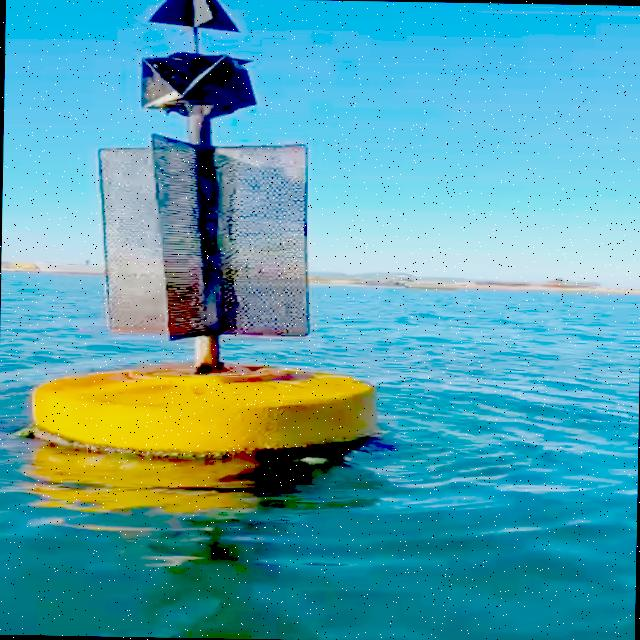marque: (43, 1, 415, 465)
